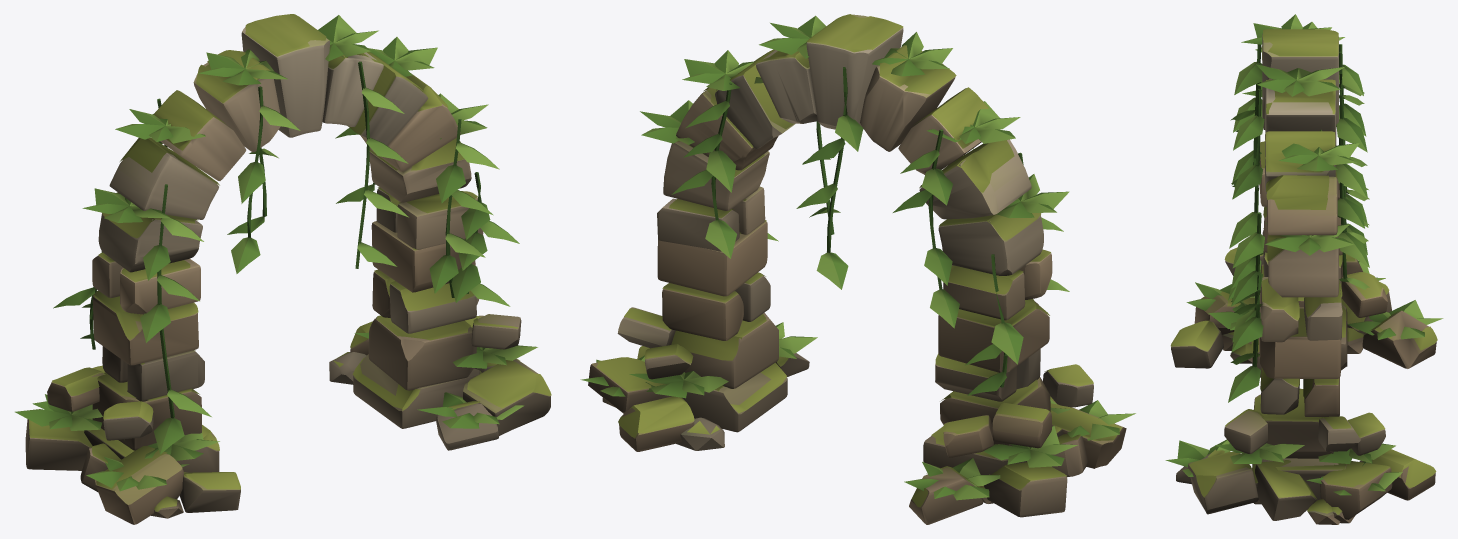
File: building-ruinsGate.glb
The picture shows the model from 3 angles, left to right: view 1: azimuth 30°, elevation 25°; view 2: azimuth 150°, elevation 25°; view 3: azimuth 270°, elevation 25°; orthographic projection. The views are drawn at different scales.
Parts seen in each view (by area): view 1: 0_ruinsGate; view 2: 0_ruinsGate; view 3: 0_ruinsGate.
Boxes of the visible parts, x1,y1,x2,y2 form: 0_ruinsGate: [15, 14, 551, 524]; 0_ruinsGate: [580, 14, 1135, 524]; 0_ruinsGate: [1165, 14, 1443, 524].
Bounding box in the file's own units: 5.12 × 4.16 × 2.77.
